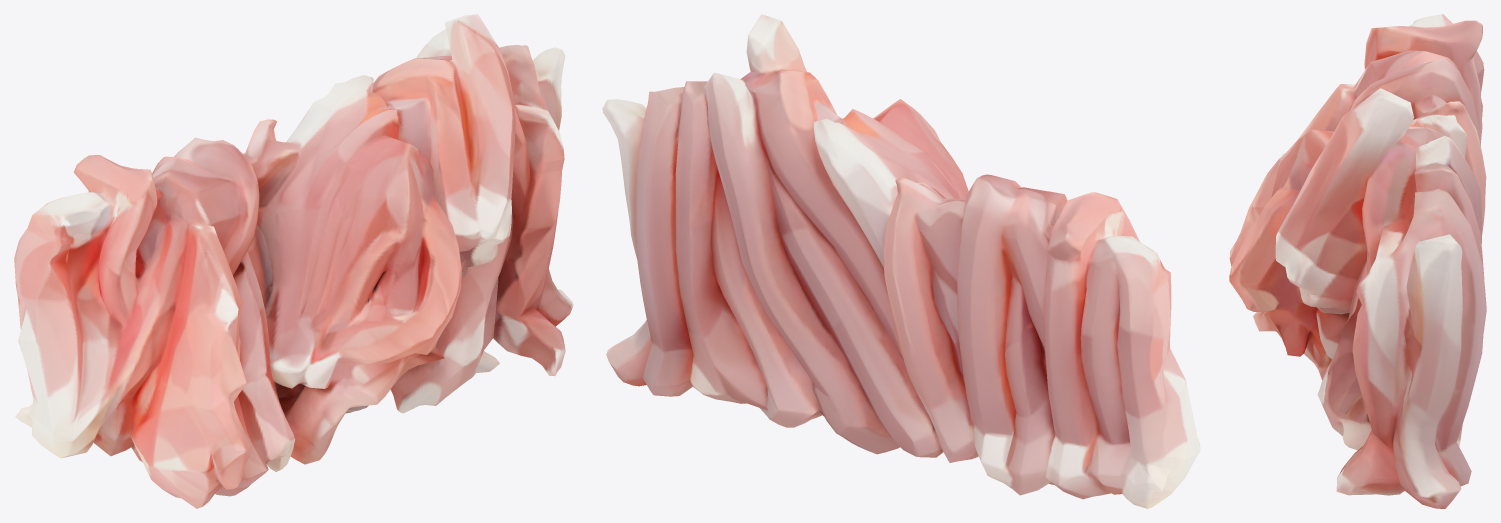
The model's file is base_basic_shaded.fbx.
3 views of the same model, side by side, from view 1: azimuth 30°, elevation 25°; view 2: azimuth 150°, elevation 25°; view 3: azimuth 270°, elevation 25° (orthographic). The views are drawn at different scales.
Visible parts, largest first — view 1: model; view 2: model; view 3: model.
Boxes of the visible parts, left/top/right/bottom form: model: left=14, top=14, right=573, bottom=508; model: left=602, top=14, right=1200, bottom=508; model: left=1229, top=14, right=1486, bottom=508.
Bounding box in the file's own units: 178 × 123 × 70.73.
